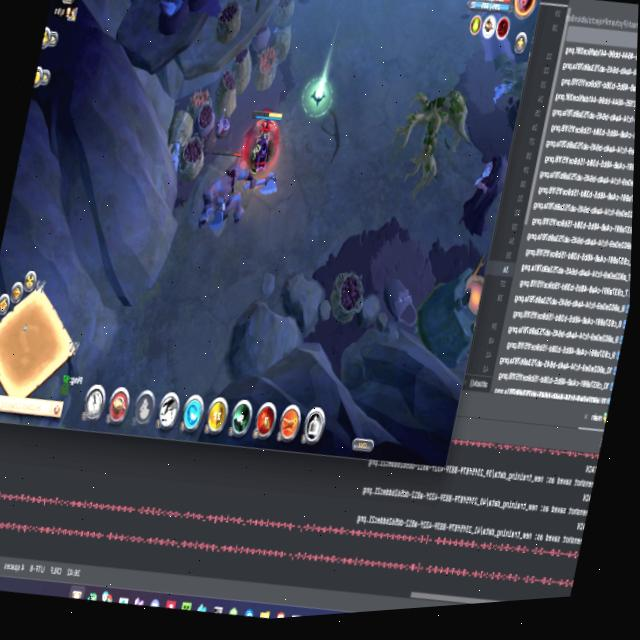ore: (368, 72, 478, 215), (191, 137, 288, 248), (451, 144, 508, 249), (292, 0, 323, 6)
red: (238, 99, 288, 181)
